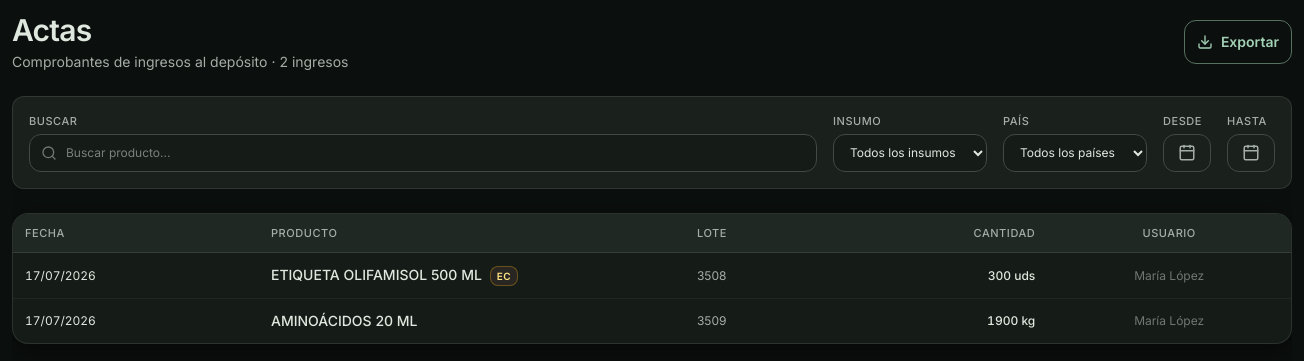
Test case: ActasPage › identifies packaging by type and market, then filters it by country
Expected: the text "ETIQUETA OLIFAMISOL 500 ML" is shown, x1=271 y1=266 x2=482 y2=283
Select "Ecuador" in the dropdown labelled "País" at (1075, 152), box x1=1003 y1=134 x2=1147 y2=172
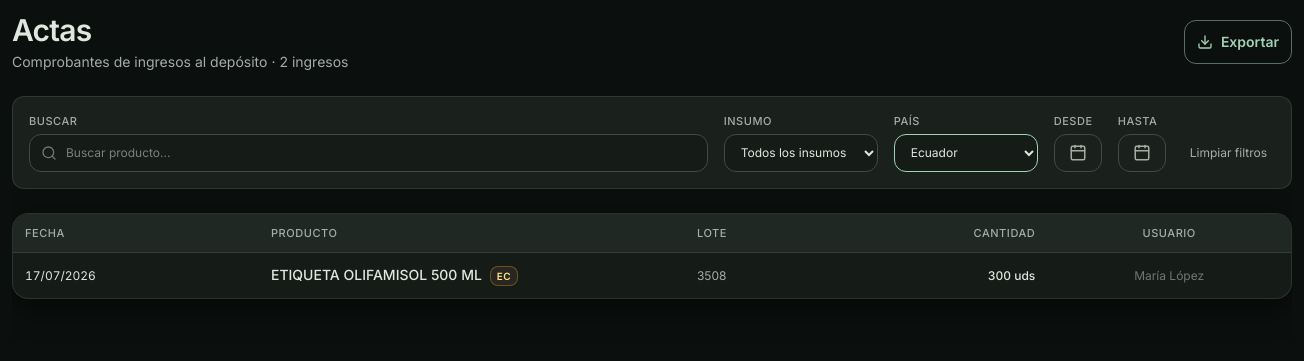
Expected: the text "ETIQUETA OLIFAMISOL 500 ML" is shown, x1=271 y1=266 x2=482 y2=283
Expected: the text "AMINOÁCIDOS 20 ML" is gone
